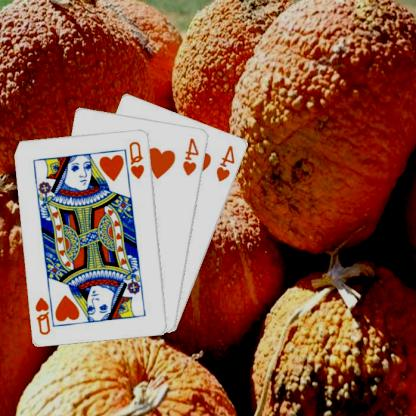4H: (216, 142, 238, 183), (182, 136, 203, 176)
QH: (35, 288, 58, 336), (129, 138, 148, 180)
